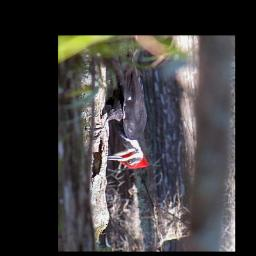Woodpecker: (85, 42, 151, 169)
